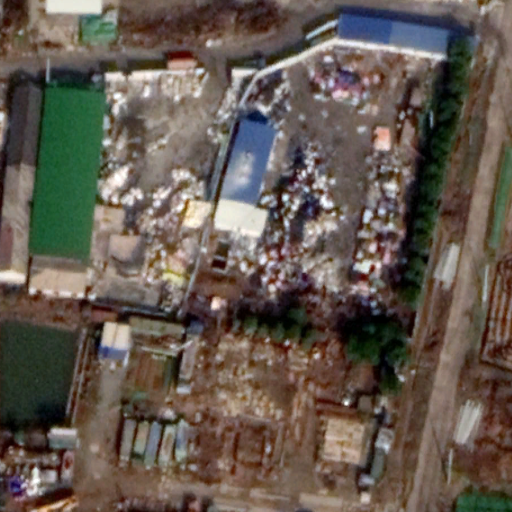msw: (255, 44, 413, 286), (99, 139, 210, 231)
